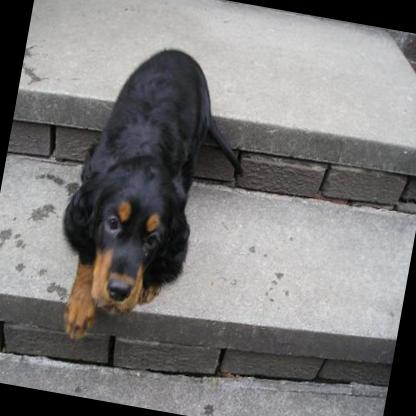Gordon_setter: (40, 32, 258, 360)
